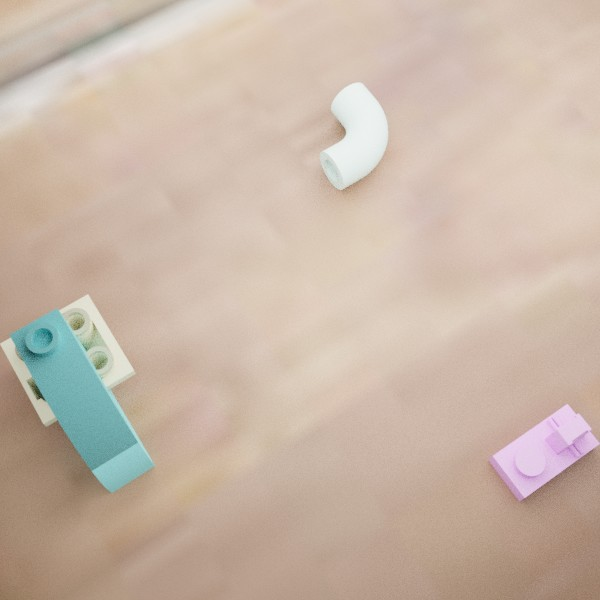lego: (9, 308, 154, 493), (0, 294, 135, 426), (488, 403, 600, 501), (319, 82, 388, 190)
